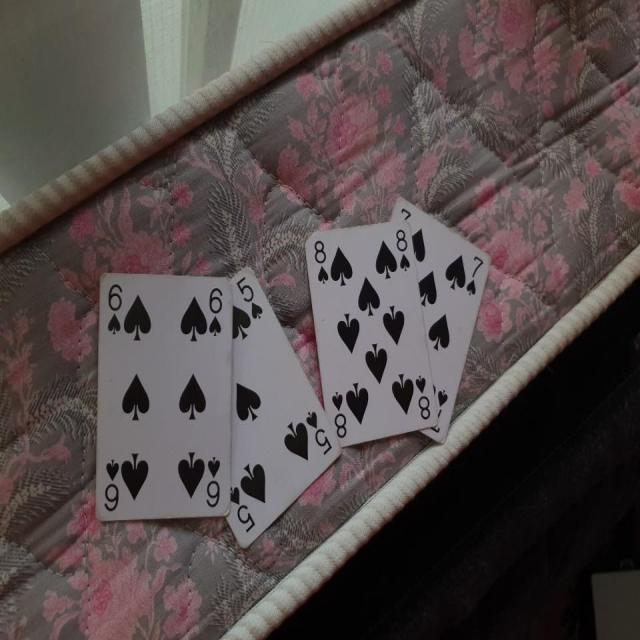5 Spades: (189, 268, 342, 558)
6 Spades: (83, 265, 236, 520)
7 Spades: (385, 188, 499, 458)
8 Spades: (296, 206, 444, 454)
